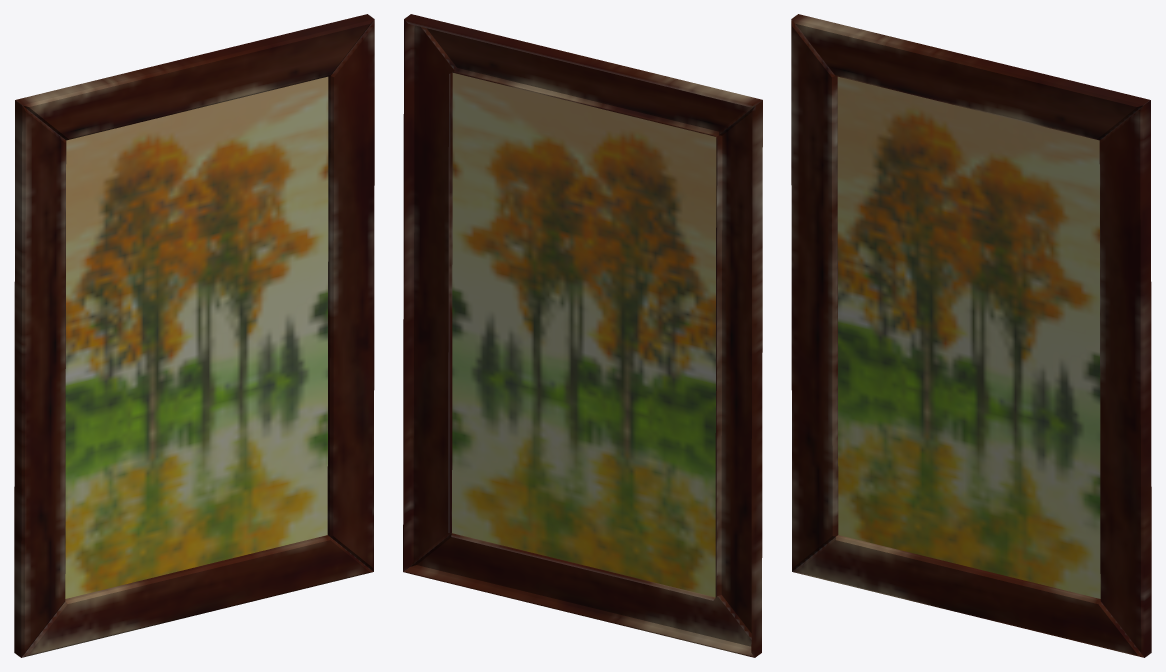
File: Prop_PictureTable_10.fbx
The picture shows the model from 3 angles, left to right: view 1: azimuth 30°, elevation 25°; view 2: azimuth 150°, elevation 25°; view 3: azimuth 330°, elevation 25°; orthographic projection.
Parts seen in each view (by area): view 1: Prop_PictureTable_10; view 2: Prop_PictureTable_10; view 3: Prop_PictureTable_10.
Boxes of the visible parts, x1,y1,x2,y2 form: Prop_PictureTable_10: (14,14,374,657); Prop_PictureTable_10: (403,14,762,657); Prop_PictureTable_10: (791,14,1151,657).
Size of the model in its own units: 17.86 by 26.79 by 0.9228.
